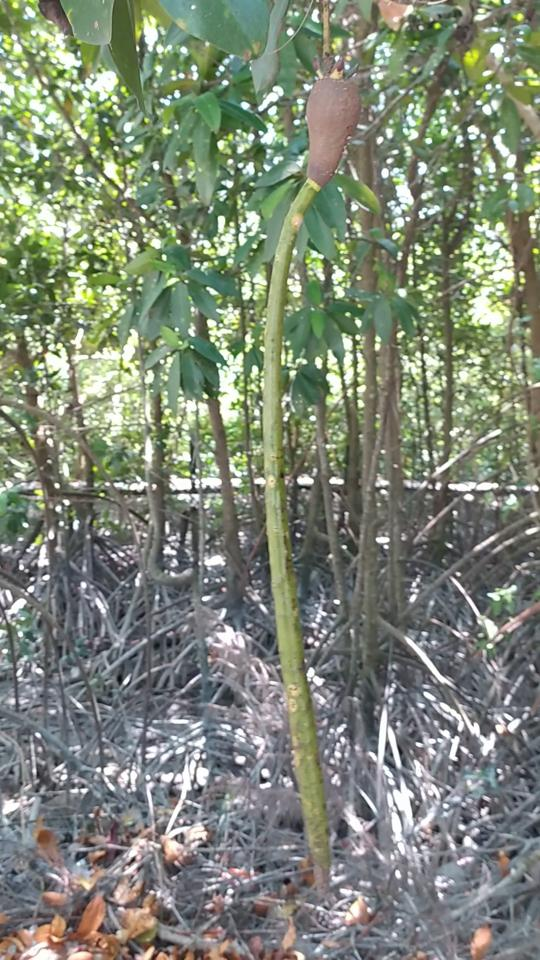setengah matang: (256, 49, 364, 916)
